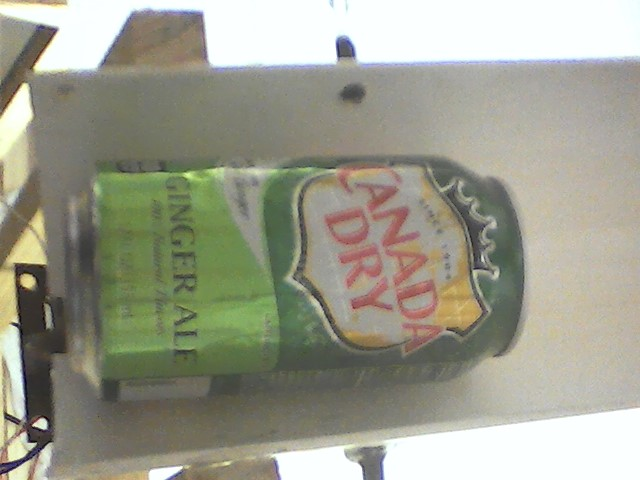lata: (56, 151, 538, 402)
